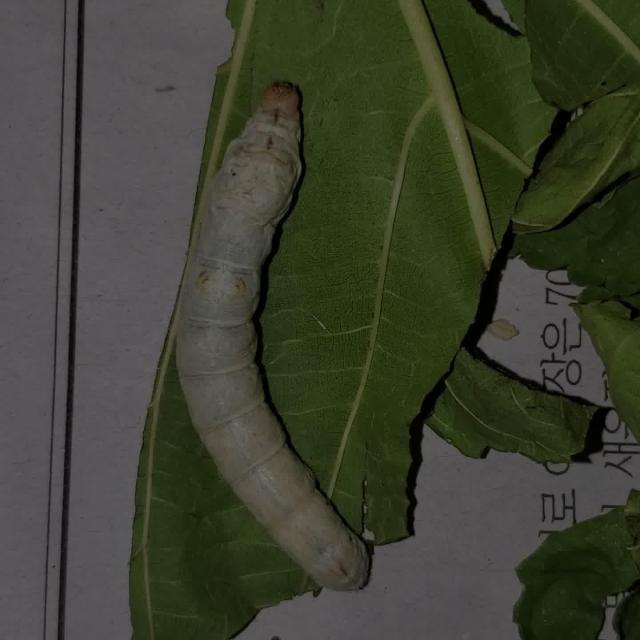Healthy: (169, 58, 411, 609)
